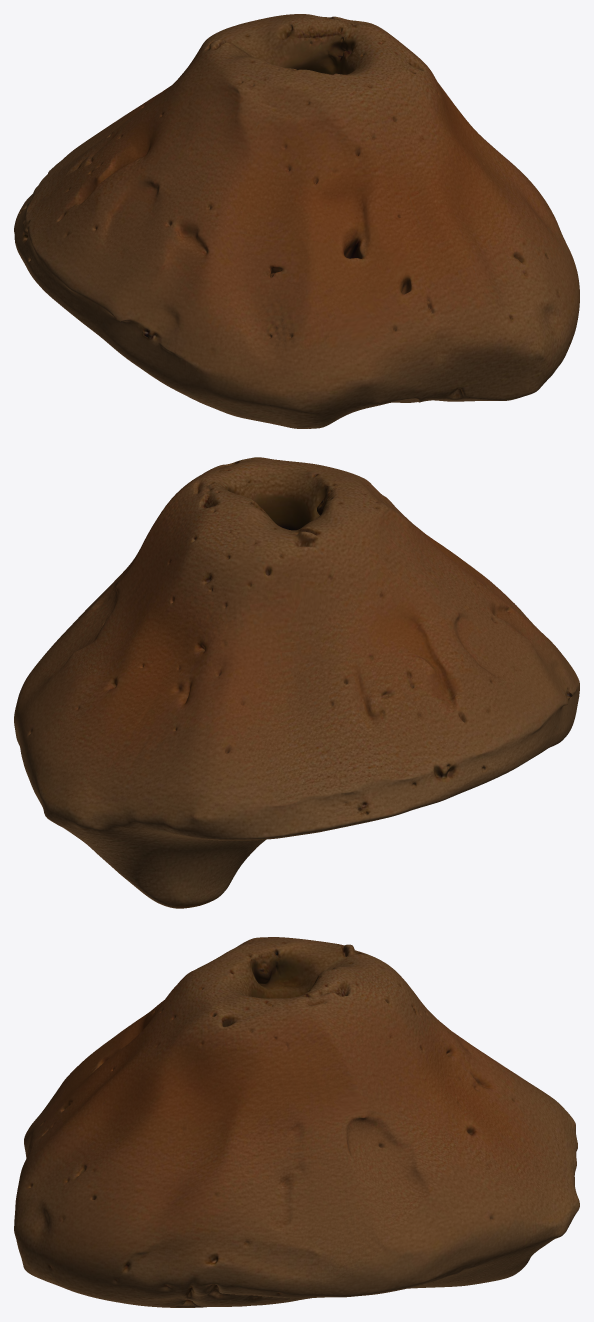
Rendered from volante-de-huso-2.glb.
The picture shows the model from 3 angles, top to bottom: view 1: azimuth 30°, elevation 25°; view 2: azimuth 150°, elevation 25°; view 3: azimuth 270°, elevation 25°; orthographic projection. The views are drawn at different scales.
Parts seen in each view (by area): view 1: tripo_node_580ff455-36f7-4450-802d-120c5959ab2b; view 2: tripo_node_580ff455-36f7-4450-802d-120c5959ab2b; view 3: tripo_node_580ff455-36f7-4450-802d-120c5959ab2b.
Part boxes in pixels (left/top/right/bottom): tripo_node_580ff455-36f7-4450-802d-120c5959ab2b: left=14, top=14, right=579, bottom=428; tripo_node_580ff455-36f7-4450-802d-120c5959ab2b: left=14, top=457, right=579, bottom=908; tripo_node_580ff455-36f7-4450-802d-120c5959ab2b: left=14, top=937, right=579, bottom=1307.
Bounding box in the file's own units: 0.8901 × 0.6082 × 0.9807.
1 material, 1 textured.
